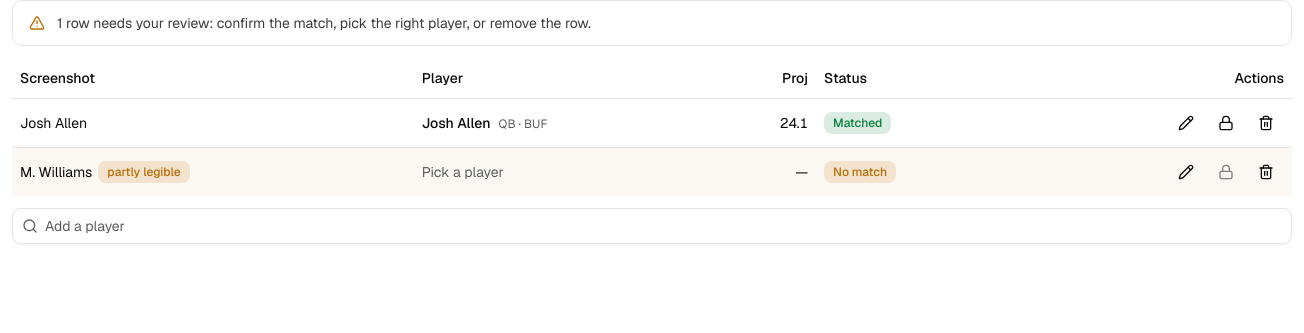
ReviewTable › resolves an ambiguous row by picking a candidate
Click the button named "Change M. Williams".
click(1186, 172)  # box [1168,156,1204,188]
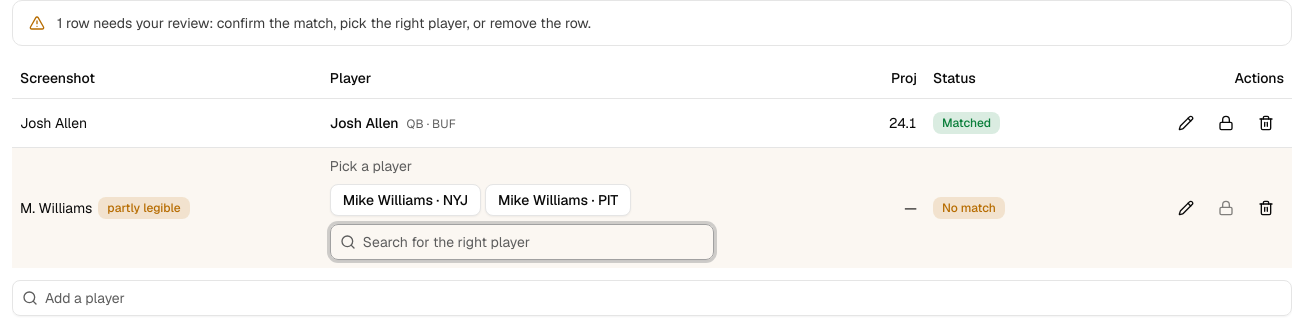
Click the button "Mike Williams · NYJ".
click(405, 200)  # box [330,184,481,216]
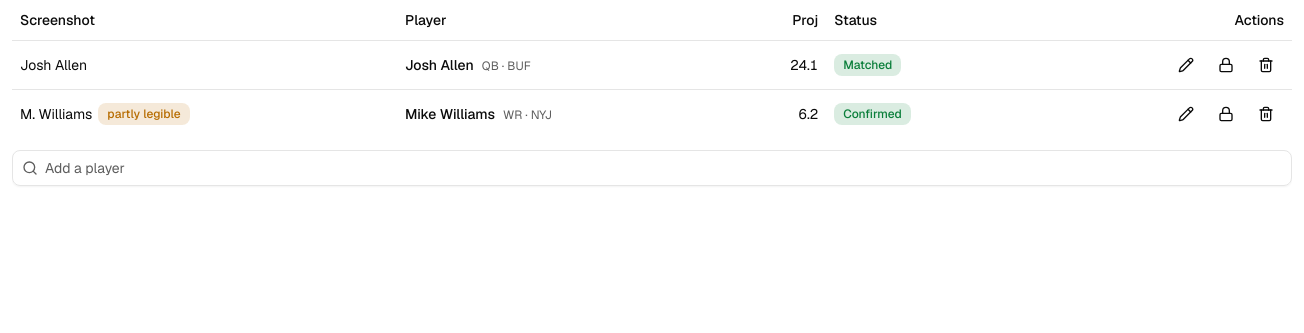
Result: the text "needs your review" is gone
